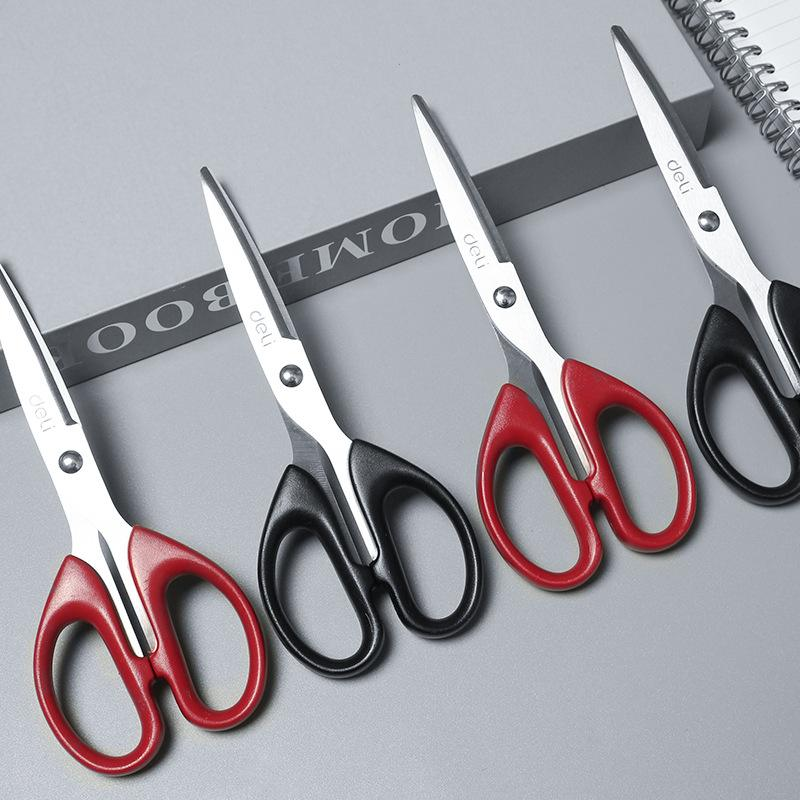scissor: (196, 160, 489, 683), (411, 89, 700, 596), (1, 261, 271, 781)
